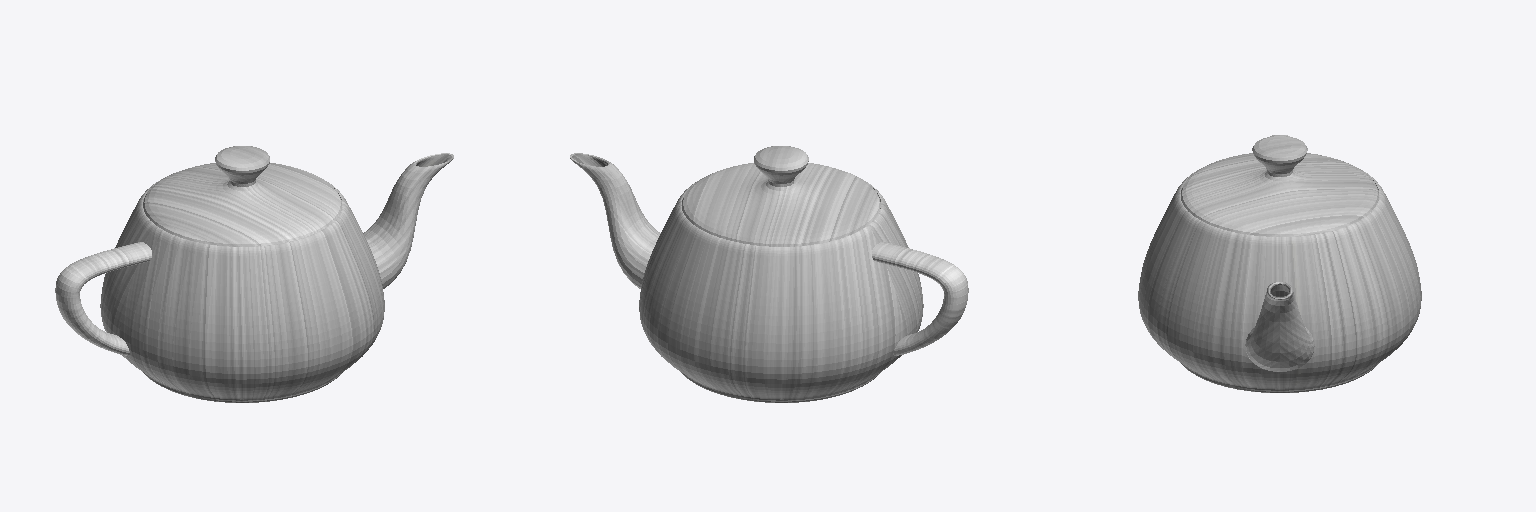
3 renders of one model, left to right at view 1: azimuth 30°, elevation 25°; view 2: azimuth 150°, elevation 25°; view 3: azimuth 270°, elevation 25°, orthographic.
Parts seen in each view (by area): view 1: Base, Top; view 2: Base, Top; view 3: Base, Top.
Boxes of the visible parts, <box> form: Base: <box>55,153,453,402</box>; Top: <box>143,146,341,246</box>; Base: <box>570,153,968,402</box>; Top: <box>682,146,880,246</box>; Base: <box>1138,135,1421,392</box>; Top: <box>1181,136,1378,236</box>.
Bounding box in the file's own units: 154 × 79.01 × 95.86.
1 materials, 1 textured.